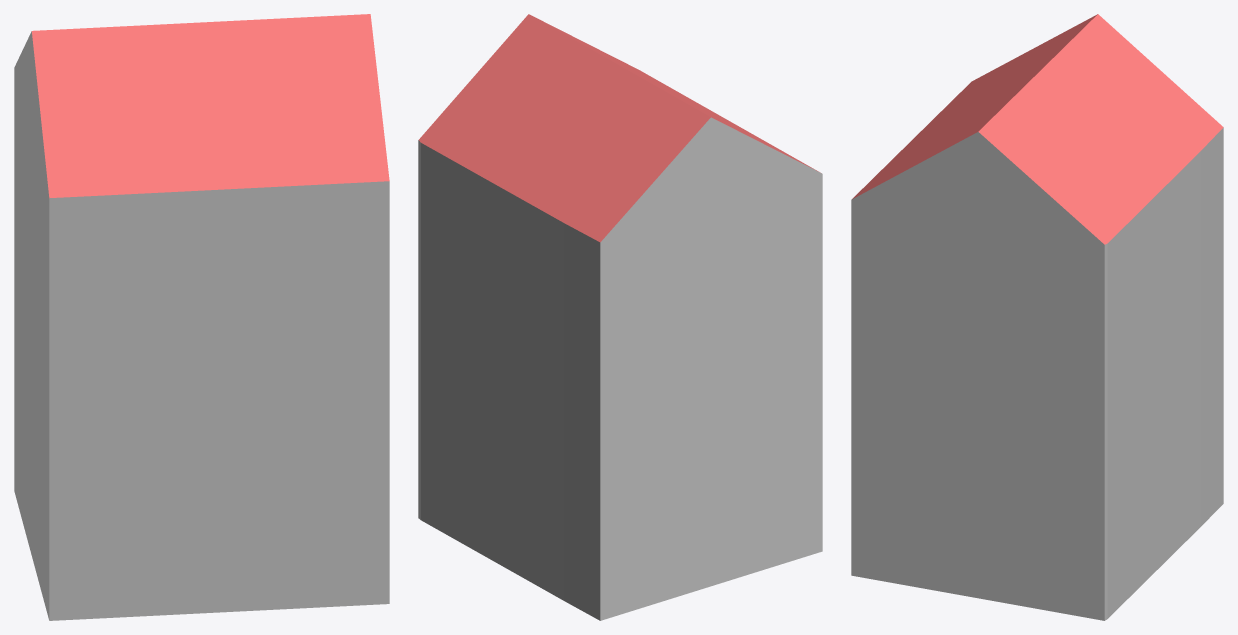
The model's file is DEBY_LOD2_60097.gltf.
The picture shows the model from 3 angles, left to right: view 1: azimuth 30°, elevation 25°; view 2: azimuth 150°, elevation 25°; view 3: azimuth 270°, elevation 25°; orthographic projection. The views are drawn at different scales.
Parts seen in each view (by area): view 1: Z_UP; view 2: Z_UP; view 3: Z_UP.
Boxes of the visible parts, x1=… form: Z_UP: x1=14, y1=14, x2=389, y2=620; Z_UP: x1=418, y1=14, x2=822, y2=620; Z_UP: x1=851, y1=14, x2=1223, y2=620.
Size of the model in its own units: 16.99 by 22.59 by 16.34.
